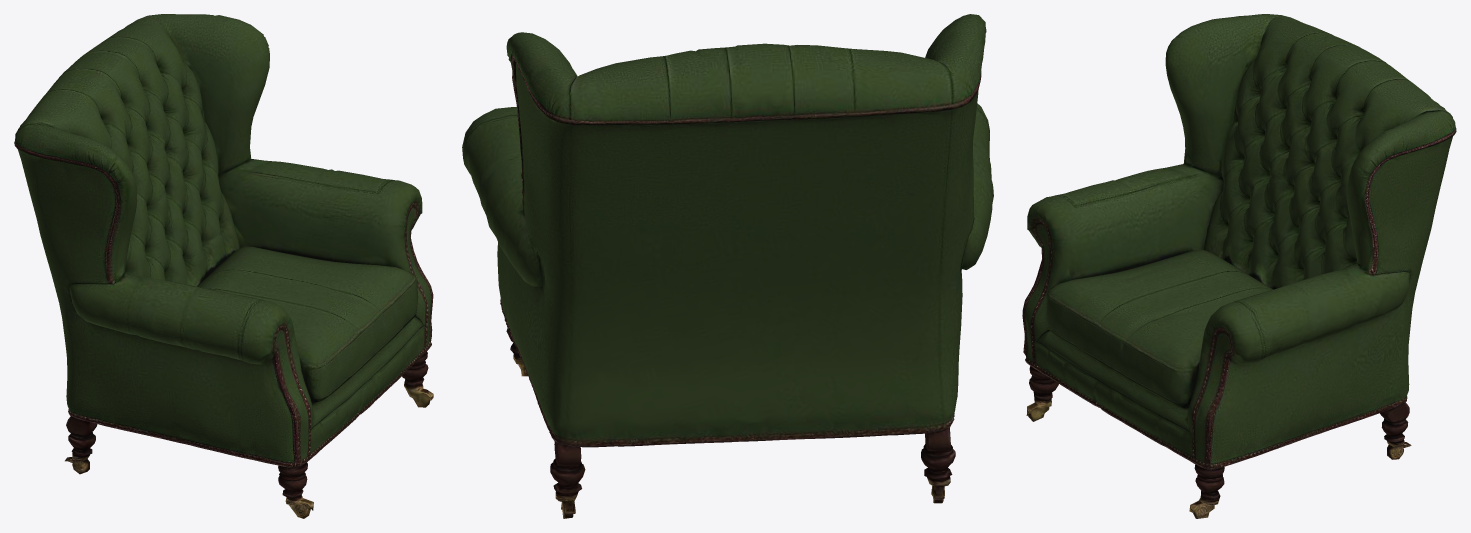
File: prop_s1_wingback_armchair.glb
The picture shows the model from 3 angles, left to right: view 1: azimuth 30°, elevation 25°; view 2: azimuth 150°, elevation 25°; view 3: azimuth 270°, elevation 25°; orthographic projection. The views are drawn at different scales.
Parts seen in each view (by area): view 1: tripo_node_07fa7e7f-2769-4e5a-a0a5-405a12a30dfa; view 2: tripo_node_07fa7e7f-2769-4e5a-a0a5-405a12a30dfa; view 3: tripo_node_07fa7e7f-2769-4e5a-a0a5-405a12a30dfa.
Boxes of the visible parts, bbox=[...] form: tripo_node_07fa7e7f-2769-4e5a-a0a5-405a12a30dfa: bbox=[14, 14, 433, 518]; tripo_node_07fa7e7f-2769-4e5a-a0a5-405a12a30dfa: bbox=[462, 14, 993, 518]; tripo_node_07fa7e7f-2769-4e5a-a0a5-405a12a30dfa: bbox=[1022, 14, 1456, 518].
Bounding box in the file's own units: 1.14 × 1 × 1.12.
Materials: 1 (1 with a texture image).
